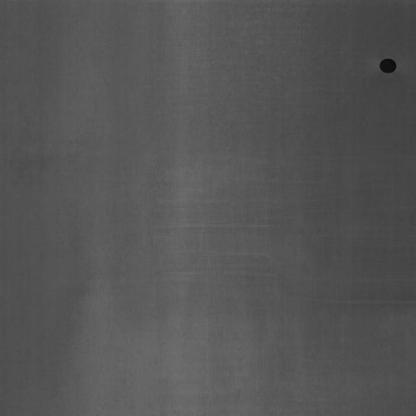punching_hole: (376, 52, 400, 78)
